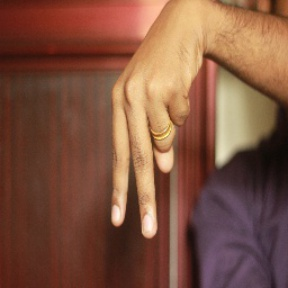Y: (103, 43, 201, 236)
